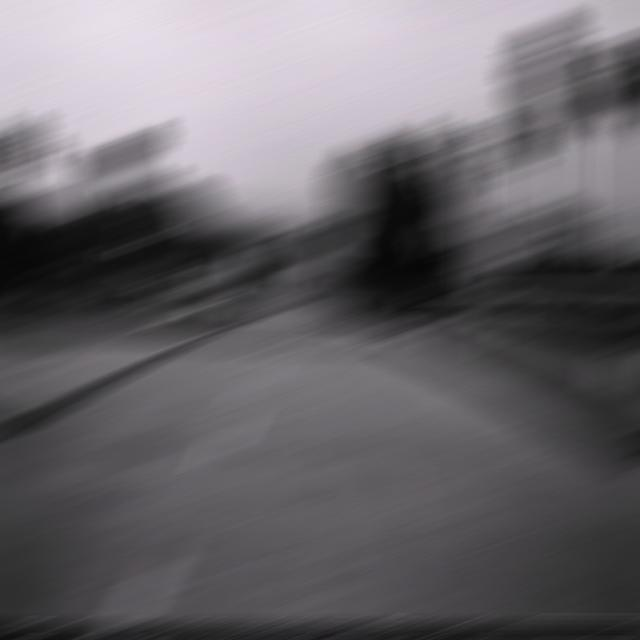pedestrianCrossing: (420, 212, 464, 249)
